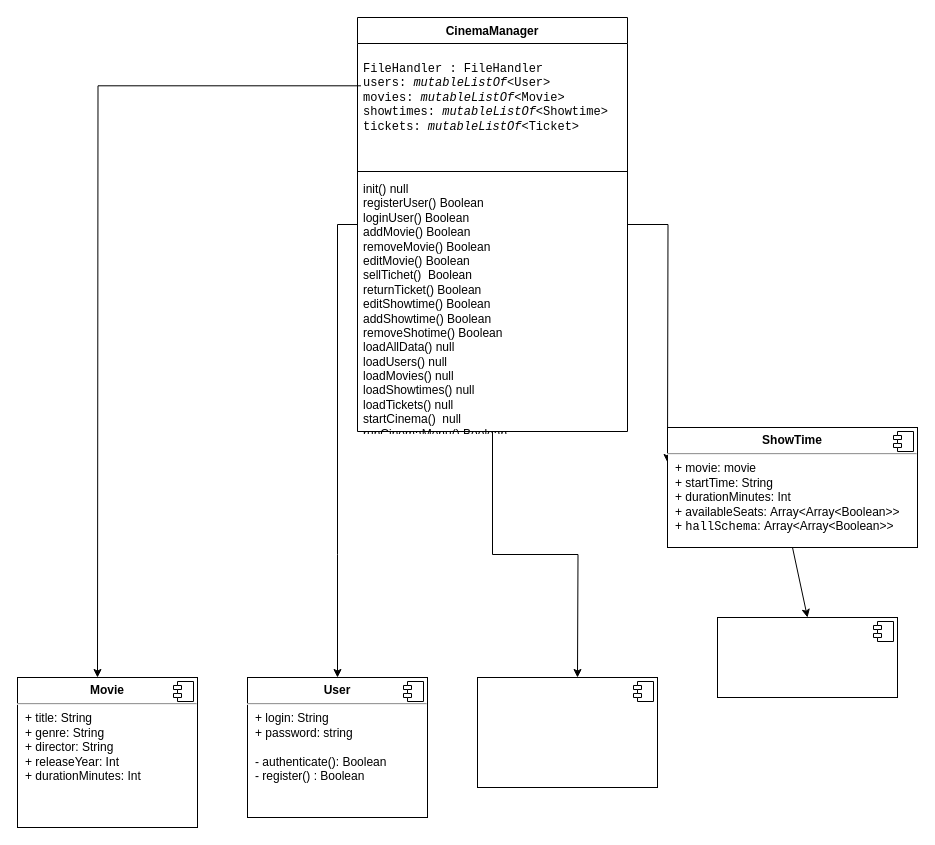
Some shapes in this 935 by 845 pixel diagram are drawn without their labels. The shapes that lost their labels are listed below. From the top down, each one's centre as x and y in pixels, then its label:
At pixel 807 657: "Seat + row: Int + number : Int".
At pixel 567 732: "Ticket + ShowTime: Int + seat : Int + price: Double -SellTicket() : Boolean".
